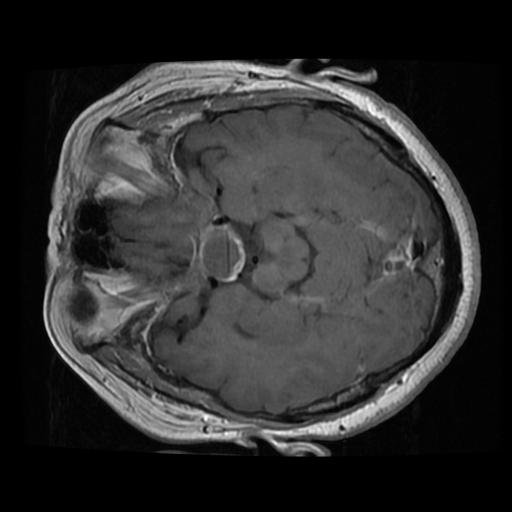pituitary tumour: (196, 225, 246, 283)
